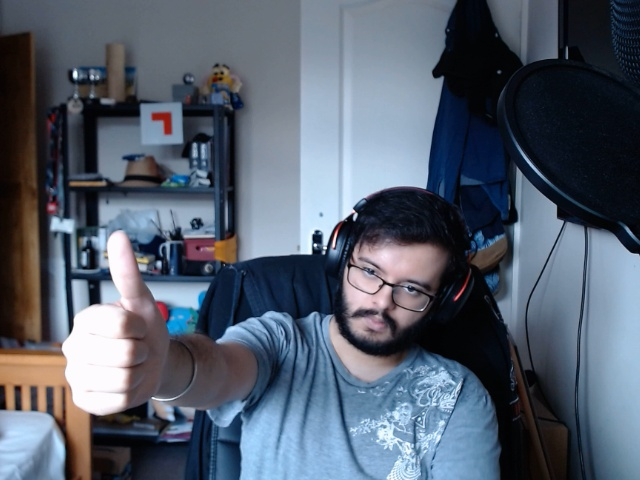Thumbs up: (53, 221, 177, 428)
